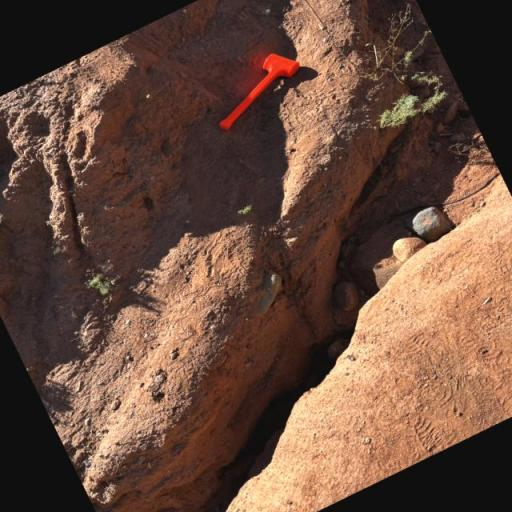mallet: (202, 44, 313, 132)
